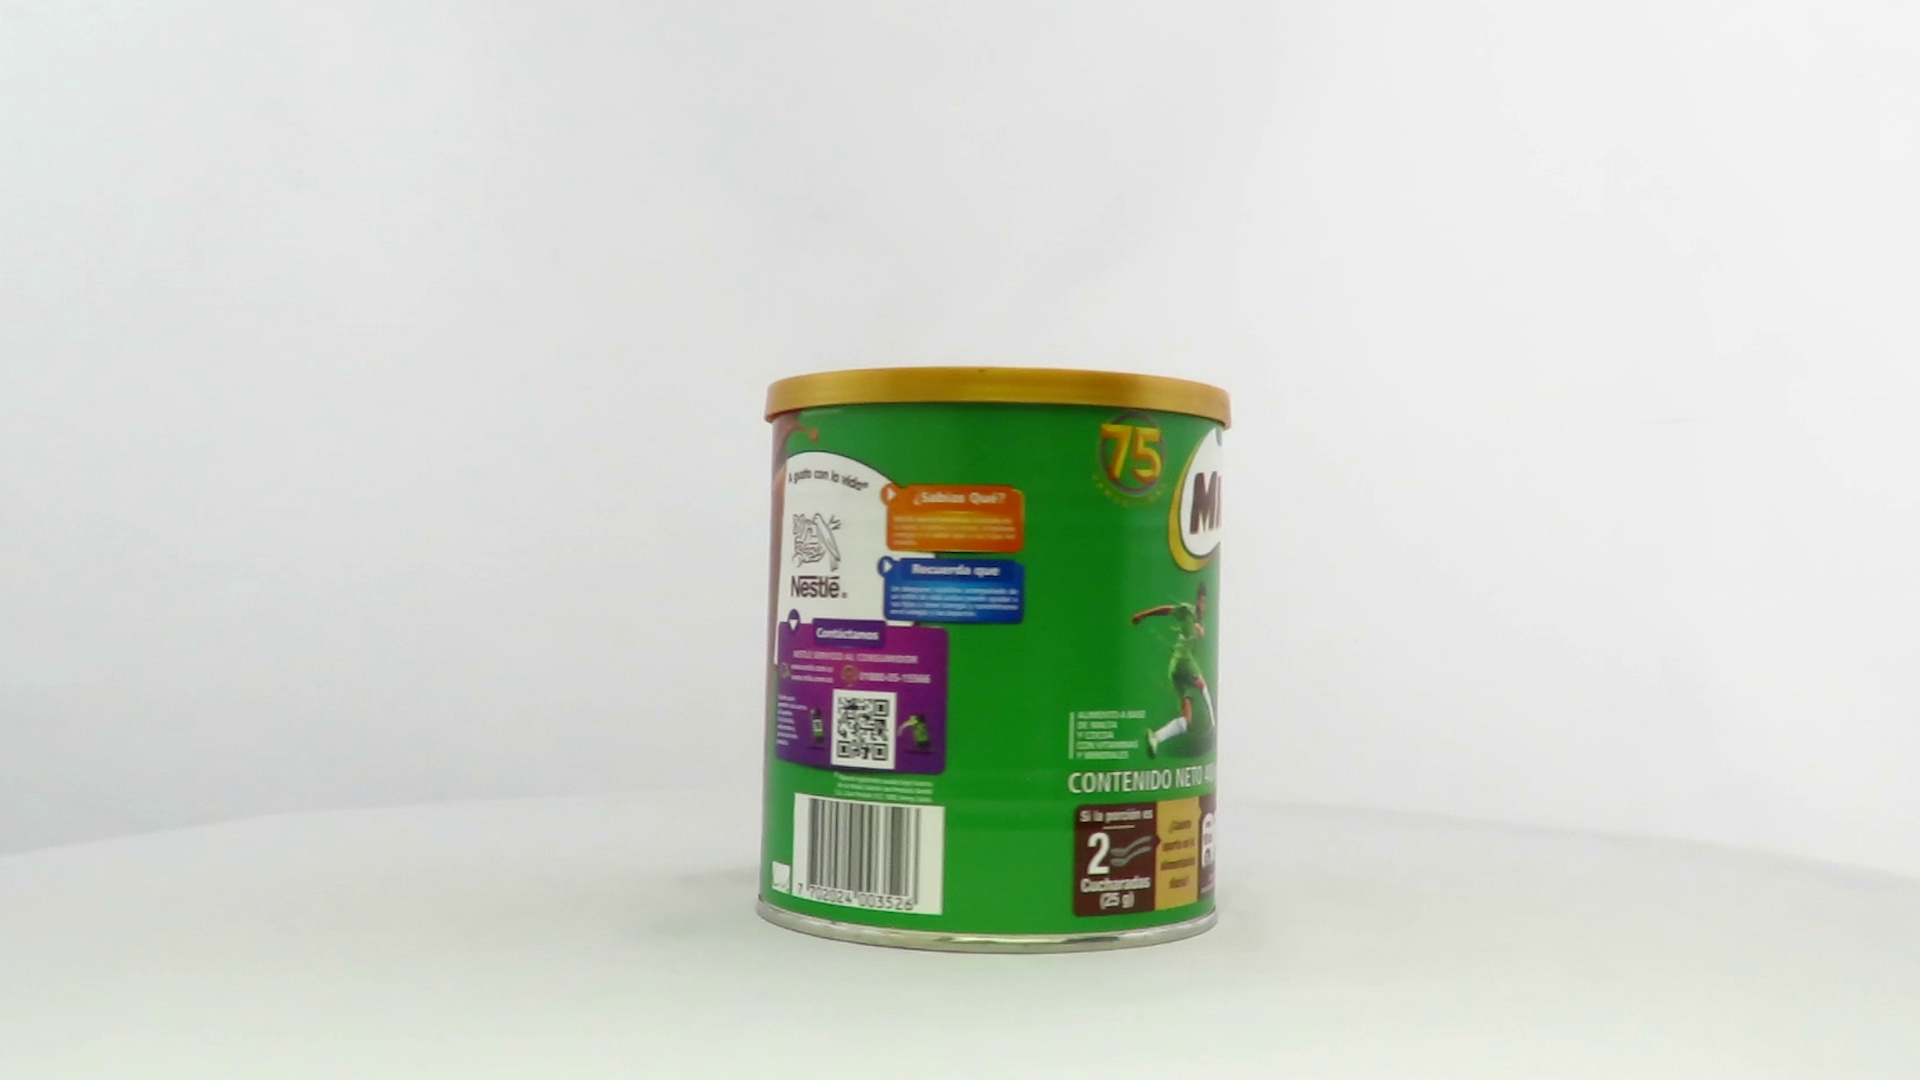COL0170203LAT40000: (750, 361, 1238, 961)
